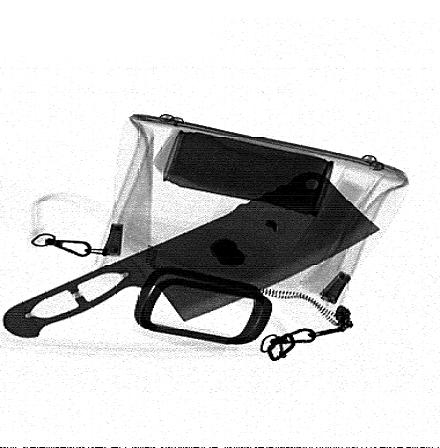Knife: (2, 170, 381, 338)
